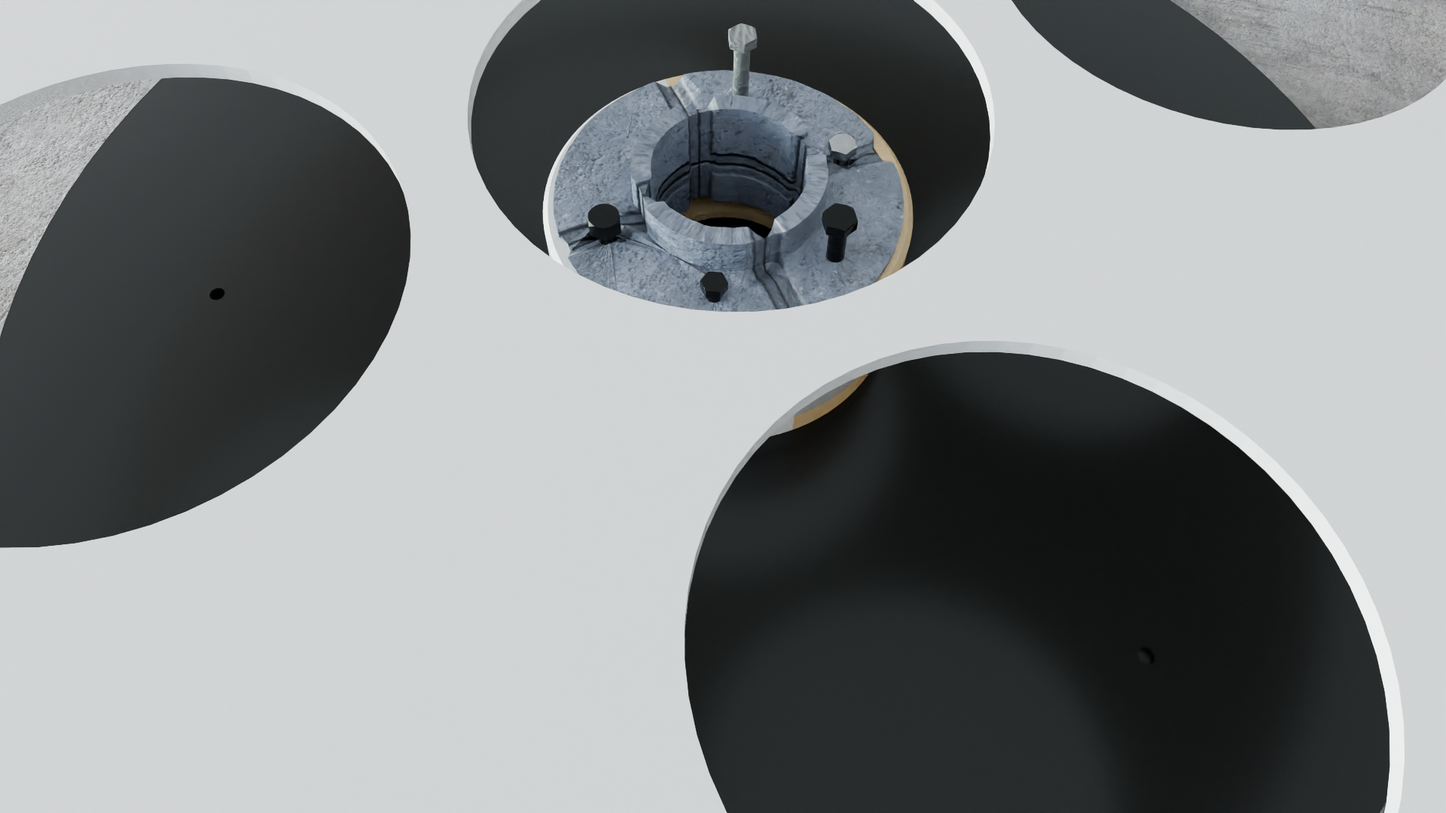bolt: (822, 203, 858, 231), (587, 204, 620, 233), (728, 23, 757, 45), (829, 132, 857, 154), (700, 272, 728, 292)
